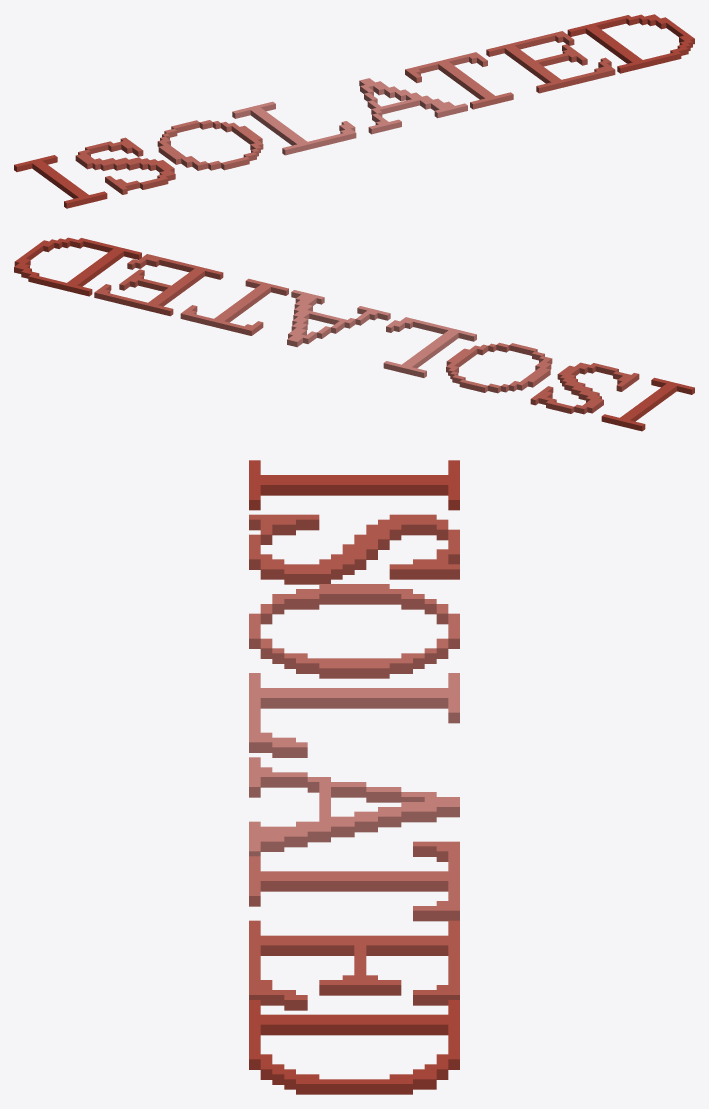
File: isolated.obj
3 views of the same model, one above another, from view 1: azimuth 30°, elevation 25°; view 2: azimuth 150°, elevation 25°; view 3: azimuth 270°, elevation 25° (orthographic). The views are drawn at different scales.
Visible parts, largest first — view 1: İSO; view 2: İSO; view 3: İSO.
Boxes of the visible parts, x1,y1,x2,y2 form: İSO: (14, 14, 694, 208); İSO: (14, 237, 694, 431); İSO: (249, 460, 459, 1094).
Size of the model in its own units: 12.6 by 0.1 by 1.8.
1 material, 1 textured.
